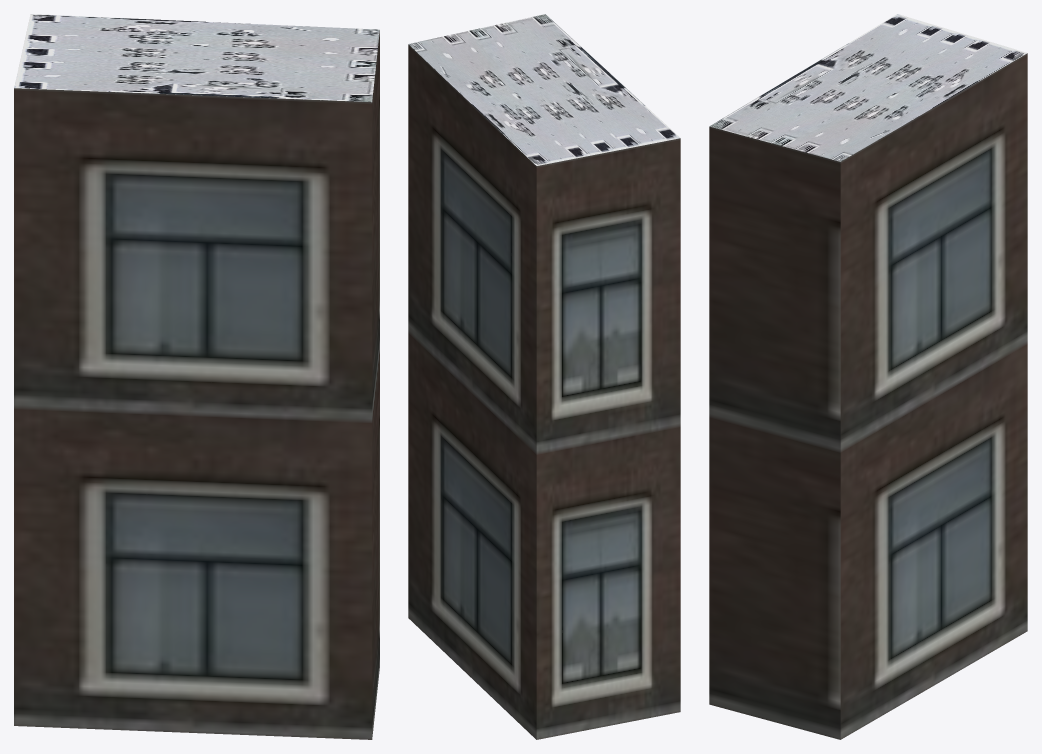
Rendered from ResTex__315.fbx.
3 views of the same model, side by side, from view 1: azimuth 30°, elevation 25°; view 2: azimuth 150°, elevation 25°; view 3: azimuth 270°, elevation 25° (orthographic). The views are drawn at different scales.
Visible parts, largest first — view 1: CityEngineMaterial_16_m, CityEngineMaterial_15_m; view 2: CityEngineMaterial_16_m, CityEngineMaterial_15_m; view 3: CityEngineMaterial_16_m, CityEngineMaterial_15_m.
Part boxes in pixels (<box>): CityEngineMaterial_16_m: <box>14,30,379,739</box>; CityEngineMaterial_15_m: <box>14,14,379,102</box>; CityEngineMaterial_16_m: <box>408,44,680,739</box>; CityEngineMaterial_15_m: <box>408,14,680,165</box>; CityEngineMaterial_16_m: <box>709,53,1027,739</box>; CityEngineMaterial_15_m: <box>709,14,1027,161</box>.
Bounding box in the file's own units: 3.29 × 6 × 3.
Materials: 2 (2 with a texture image).
